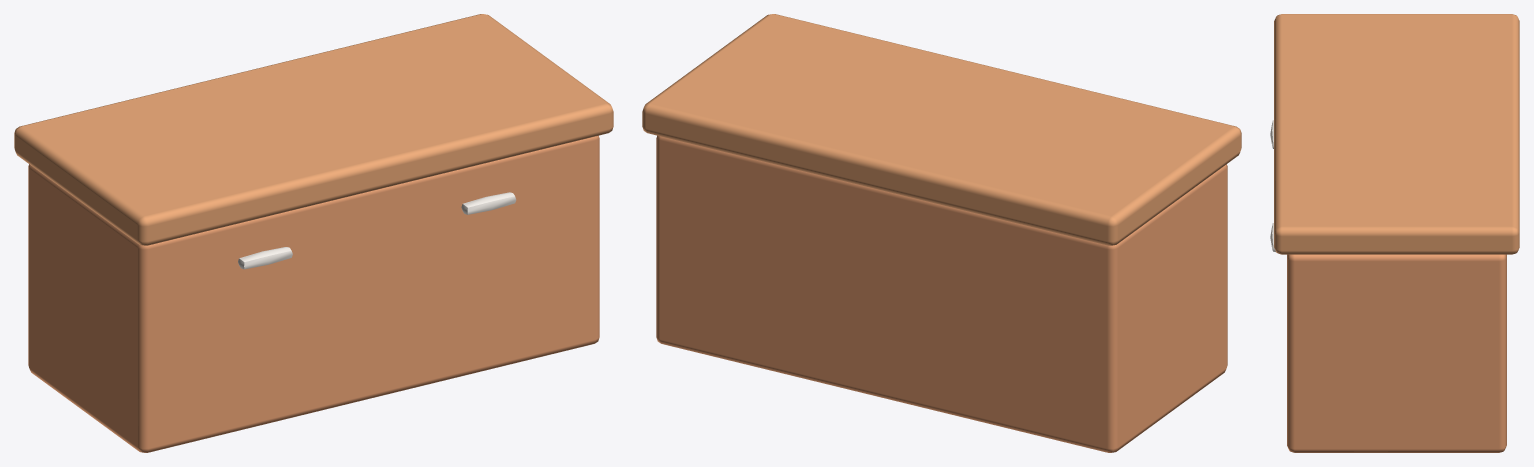
Rendered from counter.glb.
The picture shows the model from 3 angles, left to right: view 1: azimuth 30°, elevation 25°; view 2: azimuth 150°, elevation 25°; view 3: azimuth 270°, elevation 25°; orthographic projection. The views are drawn at different scales.
Parts seen in each view (by area): view 1: part (×4); view 2: part (×2); view 3: part (×2).
Part boxes in pixels (x1=…): part (×4): x1=14, y1=14, x2=613, y2=452; part (×2): x1=642, y1=14, x2=1241, y2=452; part (×2): x1=1274, y1=14, x2=1519, y2=452.
Size of the model in its own units: 2 by 0.98 by 0.965.
Materials: 1 (1 with a texture image).
